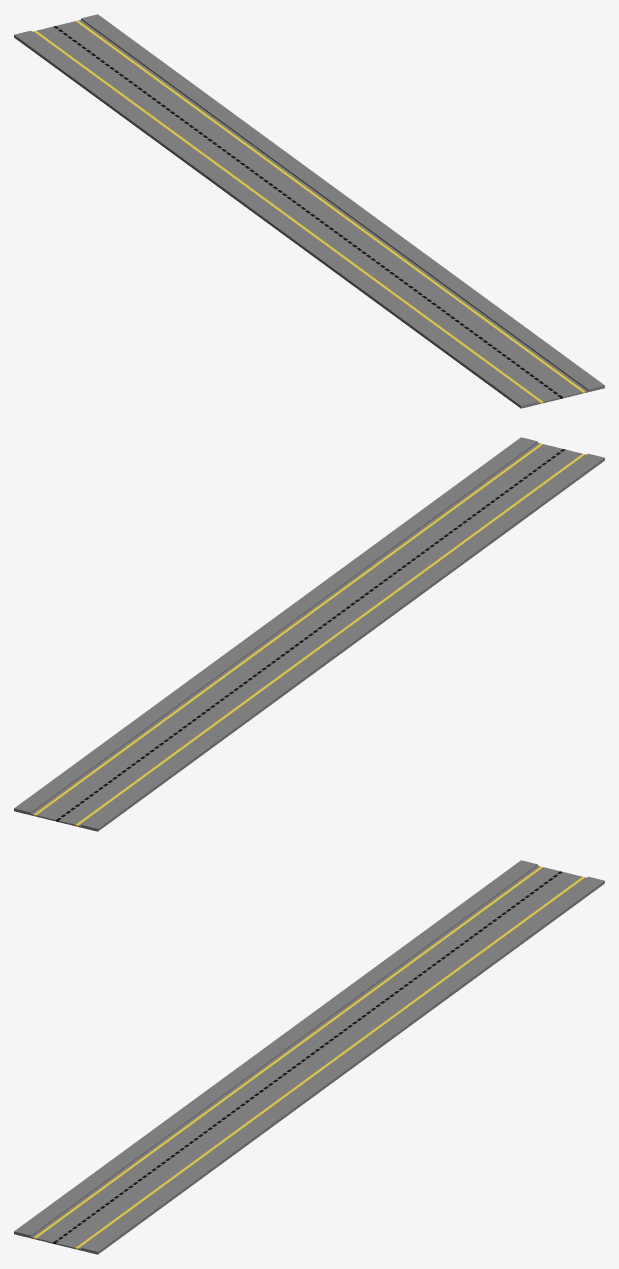
The model's file is Road.gltf.
3 renders of one model, top to bottom at view 1: azimuth 30°, elevation 25°; view 2: azimuth 150°, elevation 25°; view 3: azimuth 330°, elevation 25°, orthographic.
Parts seen in each view (by area): view 1: Road; view 2: Road; view 3: Road.
Boxes of the visible parts, x1,y1,x2,y2 form: Road: [14, 14, 604, 408]; Road: [14, 437, 604, 831]; Road: [14, 860, 604, 1254].
Size of the model in its own units: 6.21 by 0.2 by 65.02.
Materials: 2 (2 with a texture image).
